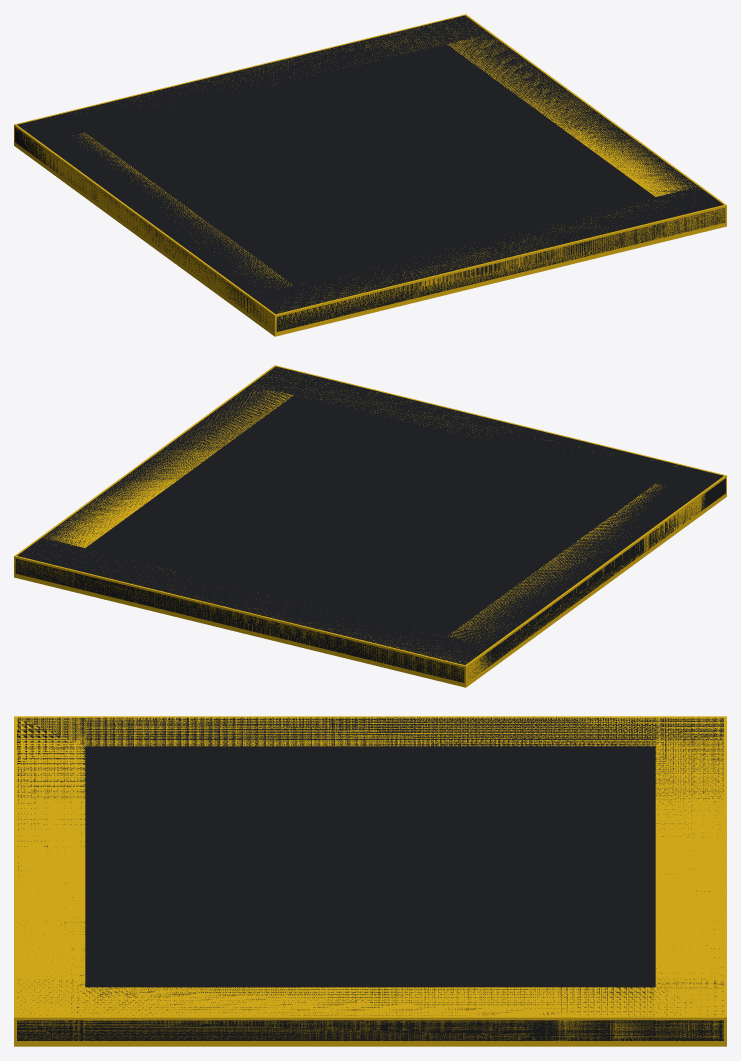
File: ceilingpanel_hazard_hatch_1x1.glb
The picture shows the model from 3 angles, top to bottom: view 1: azimuth 30°, elevation 25°; view 2: azimuth 150°, elevation 25°; view 3: azimuth 270°, elevation 25°; orthographic projection. The views are drawn at different scales.
Visible parts, largest first — view 1: ceilingpanel_hazard_hatch_1x1; view 2: ceilingpanel_hazard_hatch_1x1; view 3: ceilingpanel_hazard_hatch_1x1.
Boxes of the visible parts, x1,y1,x2,y2 form: ceilingpanel_hazard_hatch_1x1: (14,14,726,336); ceilingpanel_hazard_hatch_1x1: (14,365,726,687); ceilingpanel_hazard_hatch_1x1: (14,716,726,1046).
Bounding box in the file's own units: 1 × 0.105 × 1.
